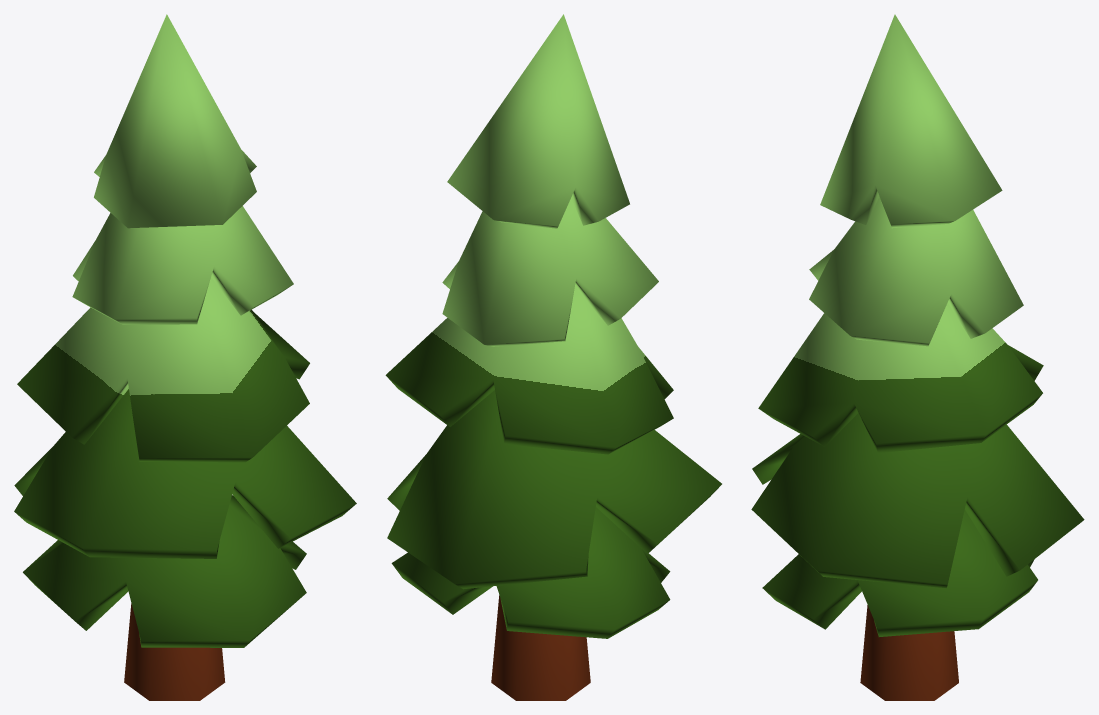
File: ForestTree2.fbx
The picture shows the model from 3 angles, left to right: view 1: azimuth 30°, elevation 25°; view 2: azimuth 150°, elevation 25°; view 3: azimuth 270°, elevation 25°; orthographic projection. The views are drawn at different scales.
Visible parts, largest first — view 1: Tree.023; view 2: Tree.023; view 3: Tree.023.
Boxes of the visible parts, bbox=[...] form: Tree.023: bbox=[14, 14, 356, 700]; Tree.023: bbox=[385, 14, 721, 700]; Tree.023: bbox=[751, 14, 1084, 700].
Size of the model in its own units: 4.45 by 10.42 by 4.76.
Materials: 1 (1 with a texture image).
